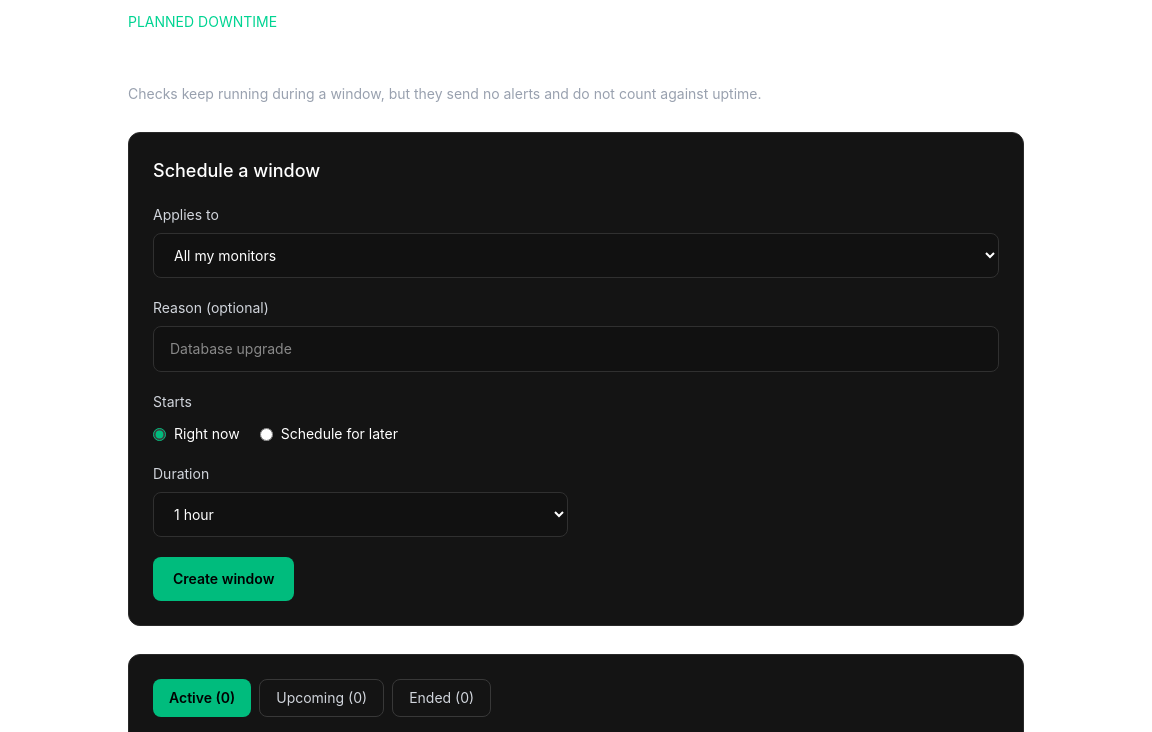
Scenario: MaintenanceWindows page › shows the server message when creating fails
Expected: the heading "Schedule a window" is shown, top-left (153, 160), bottom-right (320, 181)
Click the button "Create window": (224, 579) top-left (153, 557), bottom-right (294, 601)
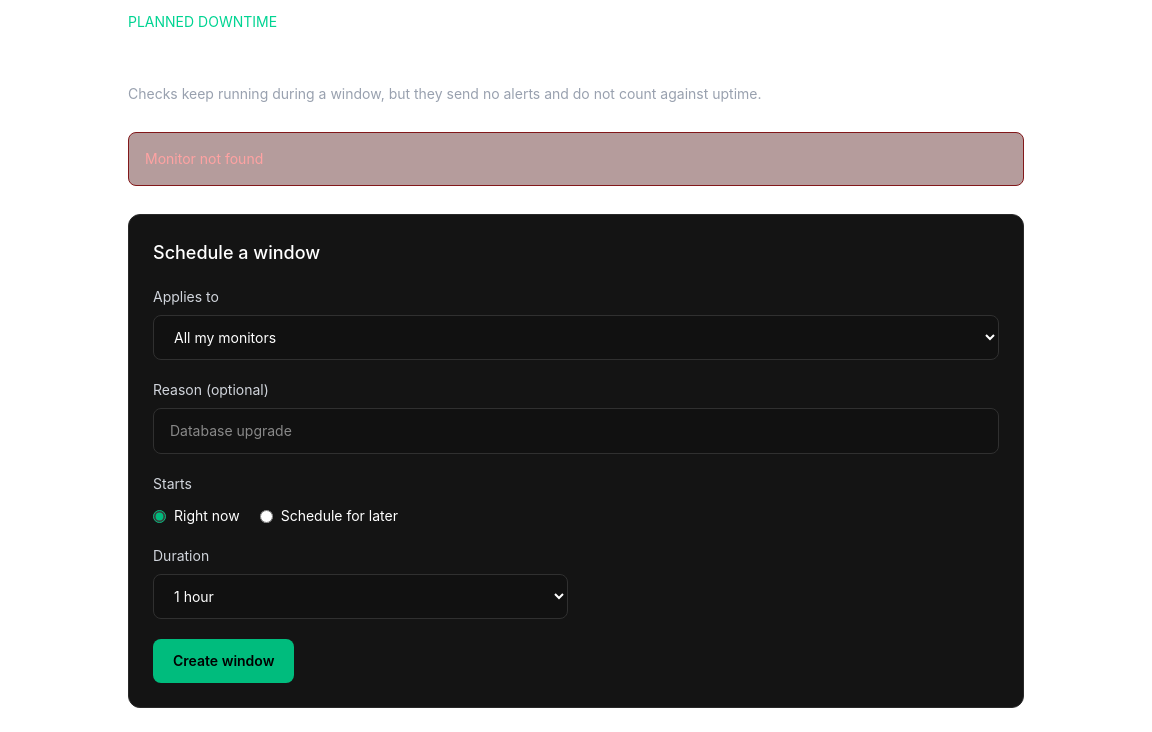
Expected: the message reads "Monitor not found", top-left (145, 150), bottom-right (263, 167)
